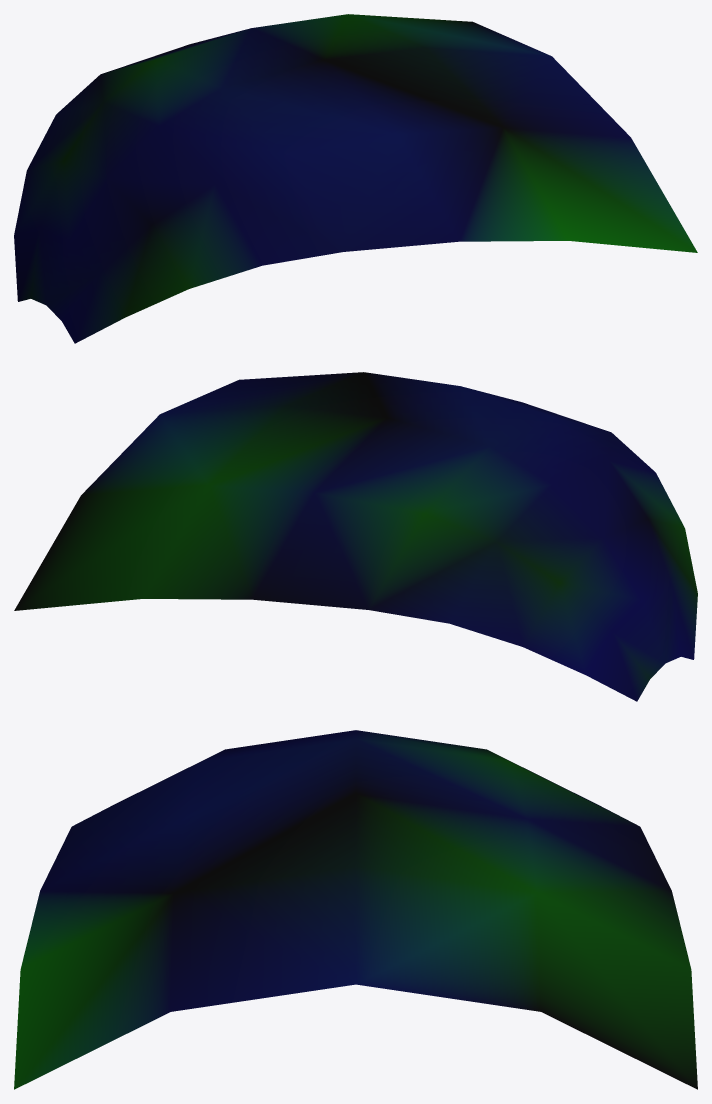
Rendered from sertz__uni_orb_swoosh.glb.
The picture shows the model from 3 angles, top to bottom: view 1: azimuth 30°, elevation 25°; view 2: azimuth 150°, elevation 25°; view 3: azimuth 270°, elevation 25°; orthographic projection. The views are drawn at different scales.
Visible parts, largest first — view 1: uni_orb_swoosh; view 2: uni_orb_swoosh; view 3: uni_orb_swoosh.
Part boxes in pixels (x1=…): uni_orb_swoosh: x1=14, y1=14, x2=697, y2=343; uni_orb_swoosh: x1=14, y1=372, x2=697, y2=701; uni_orb_swoosh: x1=14, y1=730, x2=697, y2=1089.
Bounding box in the file's own units: 80 × 29.51 × 80.
